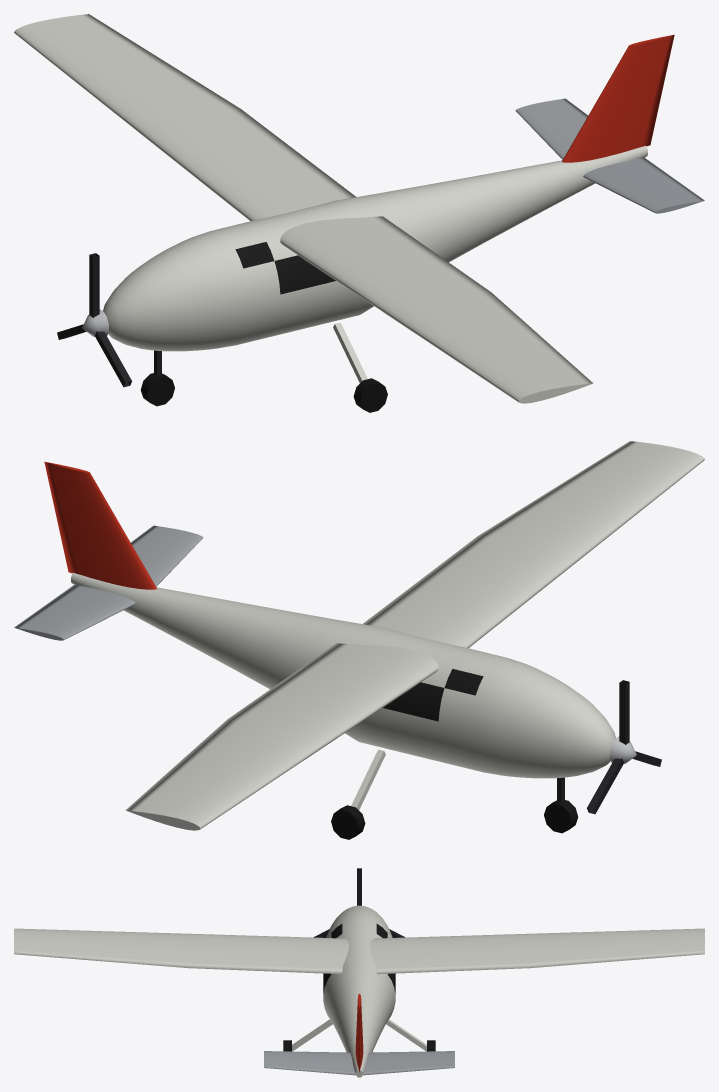
Rendered from ultralight.glb.
The picture shows the model from 3 angles, top to bottom: view 1: azimuth 30°, elevation 25°; view 2: azimuth 150°, elevation 25°; view 3: azimuth 270°, elevation 25°; orthographic projection. The views are drawn at different scales.
Visible parts, largest first — view 1: ultralight; view 2: ultralight; view 3: ultralight.
Part boxes in pixels (bbox=[...]): ultralight: bbox=[14, 14, 704, 412]; ultralight: bbox=[14, 441, 704, 839]; ultralight: bbox=[14, 868, 704, 1077].
Size of the model in its own units: 7.11 by 2.86 by 10.49.
